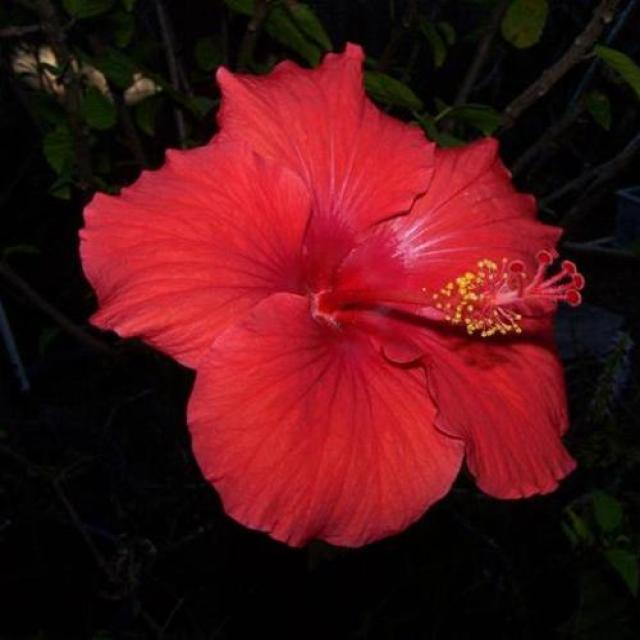hibiscus: (85, 28, 595, 599)
